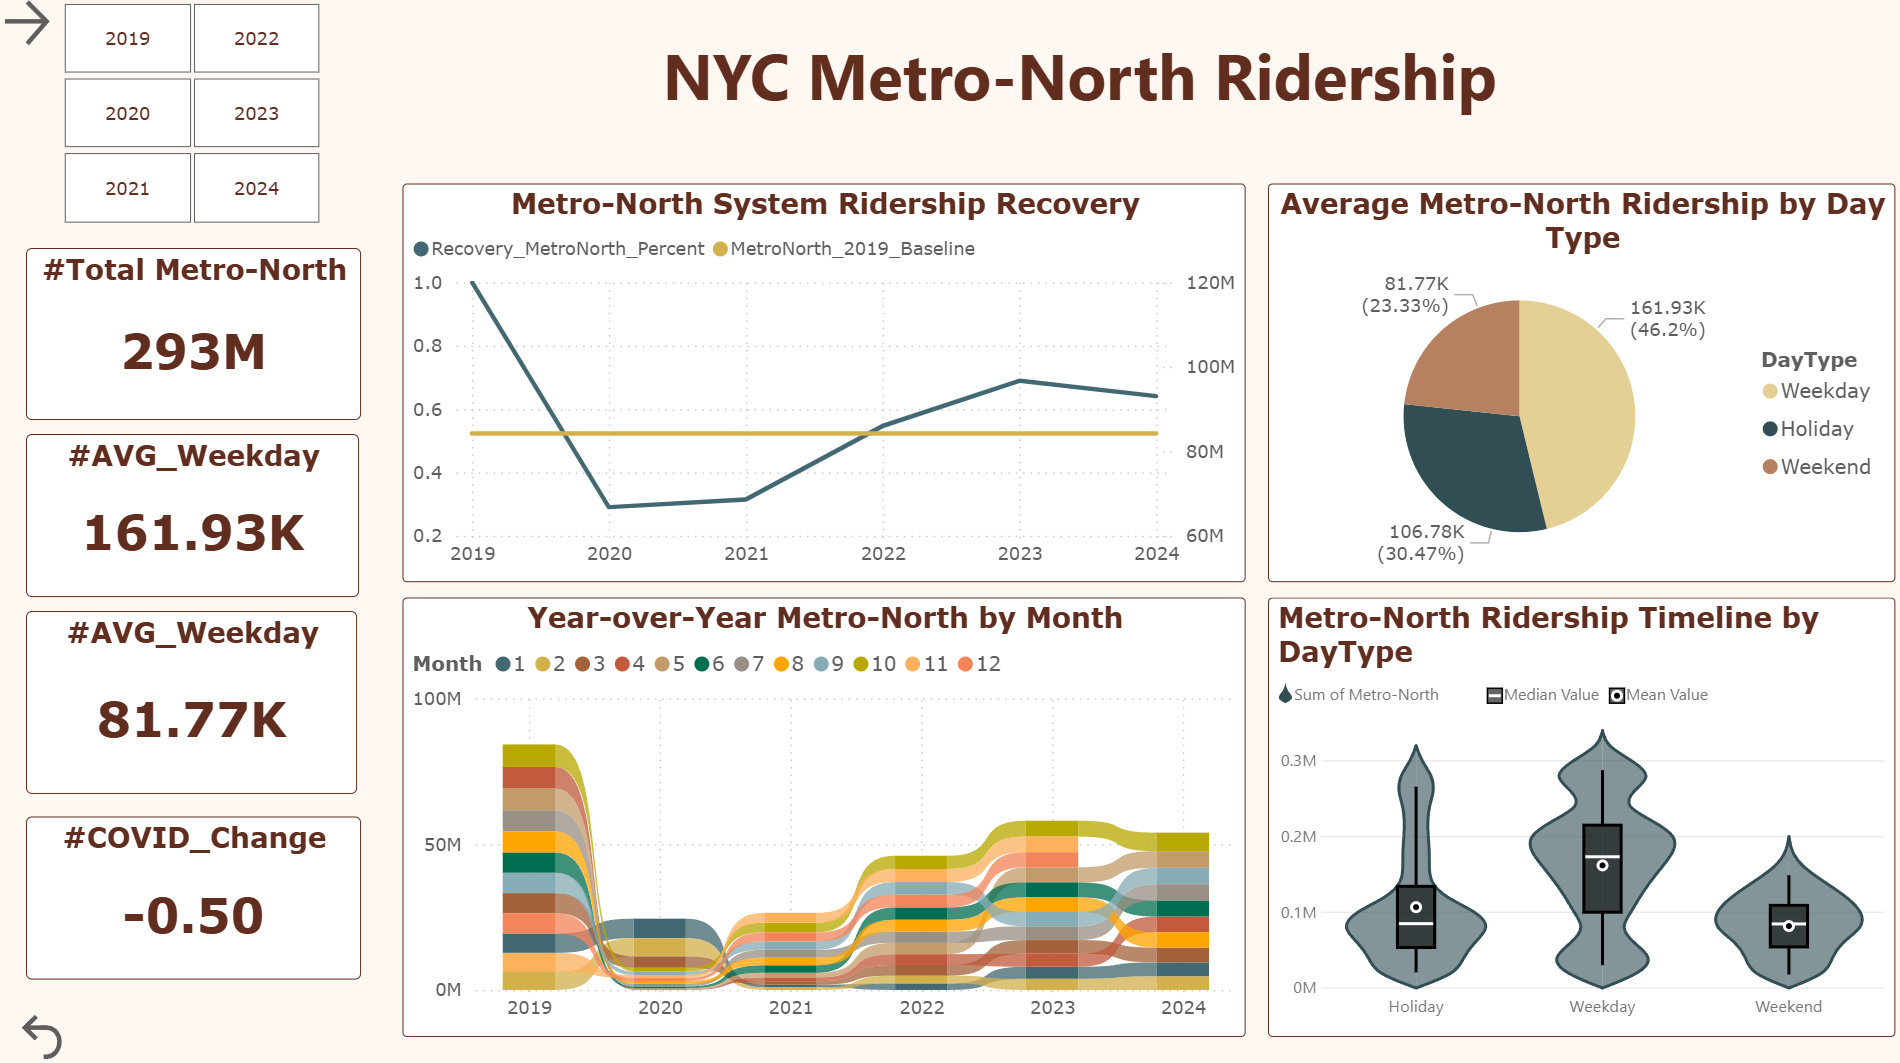

This screenshot's page, from the dashboard's own definition file:
{"tool":"powerbi","page":{"name":"Metro-North","canvas":[1280,720],"ordinal":4},"visuals":[{"type":"card","title":"#Total Metro-North","fields":{"Values":["Sum(Final.Metro-North)"]},"box":[19.6,170.6,224.5,115.3],"z":0},{"type":"card","title":"#AVG_Weekday","fields":{"Values":["Final.Avg_Weekday_MetroNorth"]},"box":[19.6,295.7,223.3,109.2],"z":1000},{"type":"card","title":"#AVG_Weekday","fields":{"Values":["Final.Avg_Weekend_MetroNorth"]},"box":[19.6,414.7,222.1,122.7],"z":2000},{"type":"card","title":"#COVID_Change","fields":{"Values":["Final.COVID_Change_Percent_MetroNorth"]},"box":[19.6,552.2,224.5,109.2],"z":3000},{"type":"slicer","fields":{"Values":["Final.Date.Variation.Date Hierarchy.Year"]},"box":[19.6,0,220.9,160.7],"z":4000},{"type":"textbox","box":[357.1,19.6,750.9,93.3],"z":5000},{"type":"lineChart","title":"Metro-North System Ridership Recovery","fields":{"Category":["Final.Date.Variation.Date Hierarchy.Year","Final.Date.Variation.Date Hierarchy.Quarter","Final.Date.Variation.Date Hierarchy.Month","Final.Date.Variation.Date Hierarchy.Day"],"Y2":["Final.MetroNorth_2019_Baseline"],"Y":["Final.Recovery_MetroNorth_Percent"]},"box":[272.4,127.6,565.6,267.5],"z":6000},{"type":"pieChart","title":"Average Metro-North Ridership by Day Type","fields":{"Category":["Final.DayType"],"Y":["Final.Avg_Weekday_MetroNorth","Final.Avg_Weekend_MetroNorth","Final.Avg_Holiday_MetroNorth"]},"box":[852.8,127.6,420.9,267.5],"z":7000},{"type":"ribbonChart","title":"Year-over-Year Metro-North by Month","fields":{"Category":["Final.Year"],"Series":["Final.Month"],"Y":["Final.Total MetroNorth"]},"box":[272.4,404.9,565.6,294.5],"z":8000},{"type":"violinPlot4D46EB9EB3A141D9BA2289793175D971","title":"Metro-North Ridership Timeline by DayType","fields":{"category":["Final.DayType"],"sampling":["Final.Date"],"measure":["Sum(Final.Metro-North)"]},"box":[852.8,404.9,420.9,294.5],"z":9000},{"type":"actionButton","box":[0,0,100,40],"z":10000},{"type":"actionButton","box":[10.9,680.2,100.1,39.8],"z":11000}]}

Visuals, with their boxes in screenshot pixels (x1, y1, x2, y2), scaled from the page's 1280x720 canvas onto the 1900x1063 screenshot:
"#Total Metro-North" card: <box>29,252,362,422</box>
"#AVG_Weekday" card: <box>29,437,361,598</box>
"#AVG_Weekday" card: <box>29,612,359,793</box>
"#COVID_Change" card: <box>29,815,362,976</box>
slicer - Final.Date.Variation.Date Hierarchy.Year: <box>29,0,357,237</box>
textbox: <box>530,29,1645,167</box>
"Metro-North System Ridership Recovery" lineChart: <box>404,188,1244,583</box>
"Average Metro-North Ridership by Day Type" pieChart: <box>1266,188,1891,583</box>
"Year-over-Year Metro-North by Month" ribbonChart: <box>404,598,1244,1033</box>
"Metro-North Ridership Timeline by DayType" violinPlot4D46EB9EB3A141D9BA2289793175D971: <box>1266,598,1891,1033</box>
actionButton: <box>0,0,148,59</box>
actionButton: <box>16,1004,165,1062</box>
